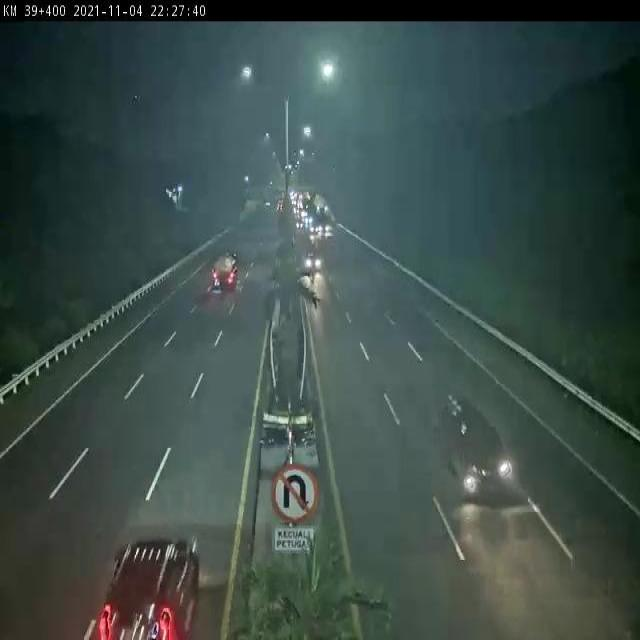car: (99, 538, 198, 640), (434, 392, 516, 504)
truck-l-: (211, 248, 239, 289)
